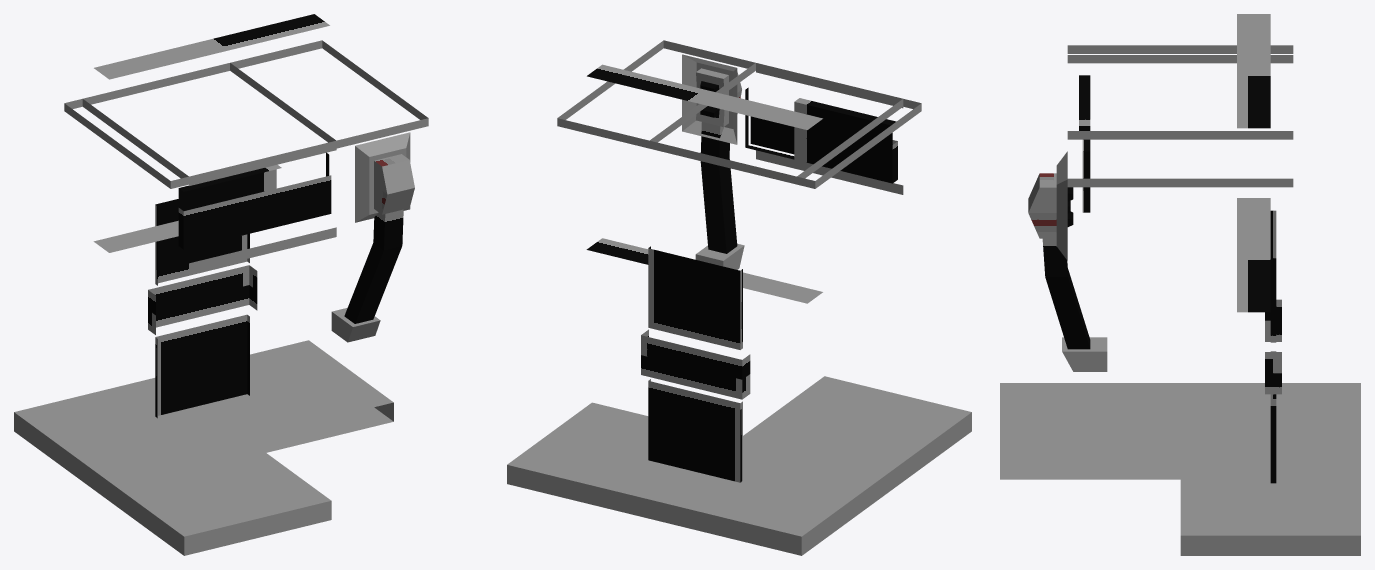
The model's file is chargeralt.obj.
3 views of the same model, side by side, from view 1: azimuth 30°, elevation 25°; view 2: azimuth 150°, elevation 25°; view 3: azimuth 270°, elevation 25° (orthographic). The views are drawn at different scales.
Visible parts, largest first — view 1: base, redstone, cube, screen, case, charger, glass_translucent; view 2: base, redstone, cube, case, screen, charger, glass_translucent; view 3: base, case, cube, charger, redstone, screen, glass_translucent.
Part boxes in pixels (x1,y1,x2,y2): base: (14, 340, 393, 555); redstone: (155, 199, 249, 418); cube: (64, 40, 428, 272); screen: (178, 152, 331, 249); case: (93, 14, 410, 252); charger: (331, 154, 414, 342); glass_translucent: (148, 265, 257, 334); base: (507, 376, 971, 555); redstone: (648, 246, 742, 482); cube: (557, 40, 921, 194); case: (586, 54, 822, 303); screen: (745, 87, 897, 183); charger: (695, 68, 744, 269); glass_translucent: (641, 329, 750, 399); base: (1000, 383, 1360, 555); case: (1056, 14, 1270, 312); cube: (1067, 45, 1293, 187); charger: (1028, 173, 1107, 371); redstone: (1270, 210, 1276, 483); screen: (1079, 75, 1090, 212); glass_translucent: (1265, 299, 1281, 394).
Size of the model in its own units: 1 by 1.25 by 1.
